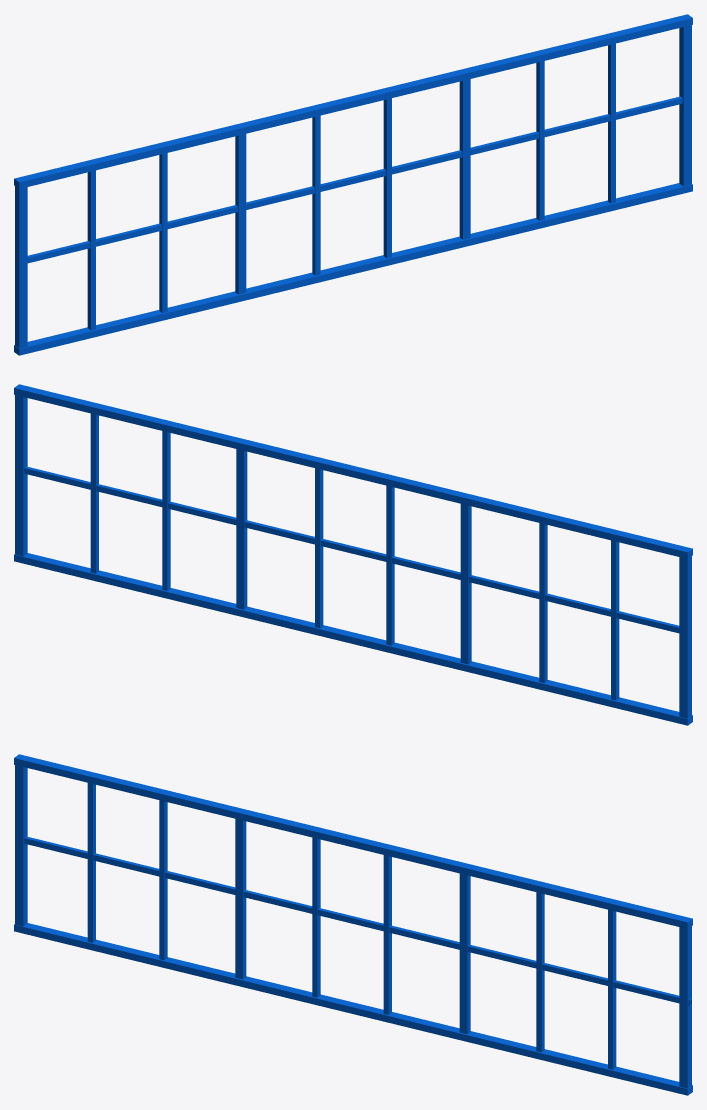
Rendered from Warehouse_04_Window_02.fbx.
3 views of the same model, one above another, from view 1: azimuth 30°, elevation 25°; view 2: azimuth 150°, elevation 25°; view 3: azimuth 330°, elevation 25° (orthographic).
Visible parts, largest first — view 1: Warehouse_04_Window_02; view 2: Warehouse_04_Window_02; view 3: Warehouse_04_Window_02.
Boxes of the visible parts, x1=… form: Warehouse_04_Window_02: x1=14, y1=14, x2=692, y2=355; Warehouse_04_Window_02: x1=14, y1=384, x2=692, y2=725; Warehouse_04_Window_02: x1=14, y1=754, x2=692, y2=1095.
Size of the model in its own units: 1213 by 298 by 16.2.
